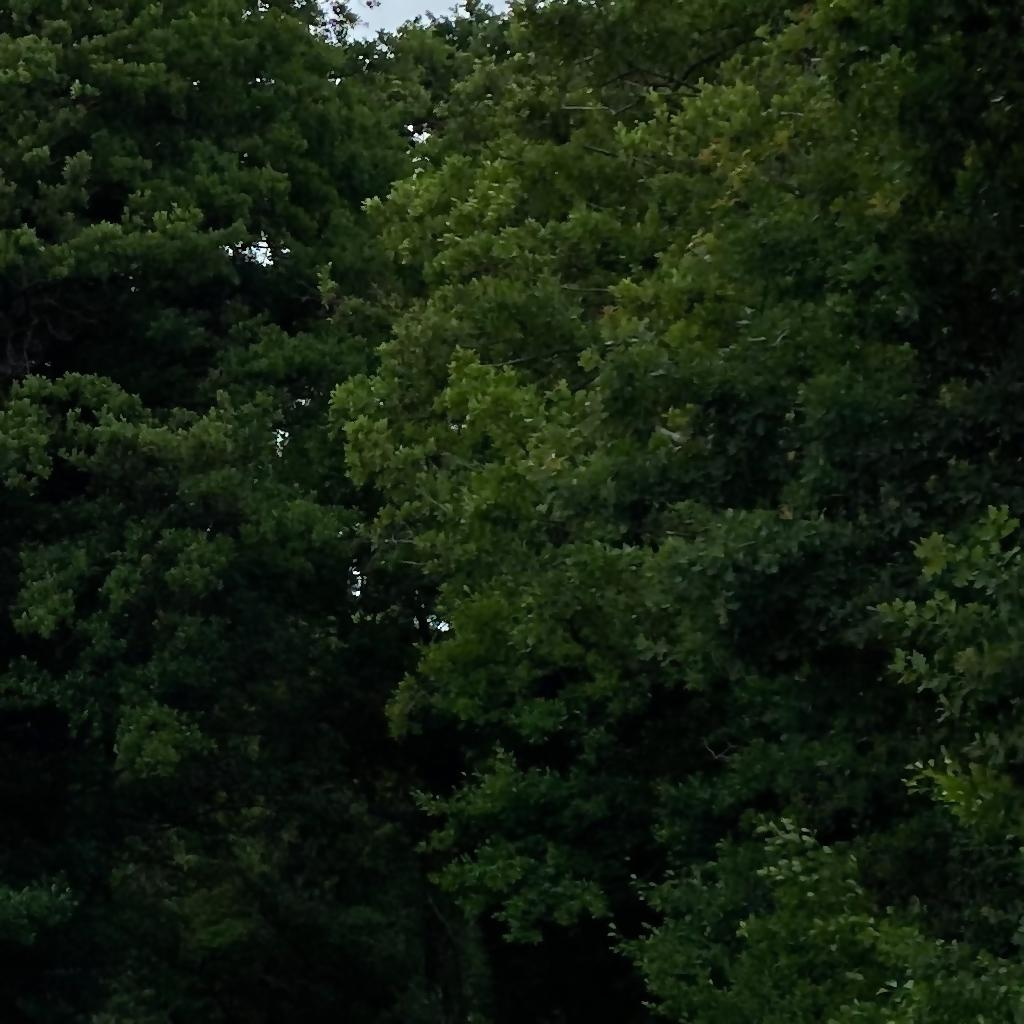tree: (316, 1, 1024, 1024), (1, 1, 391, 1023)
